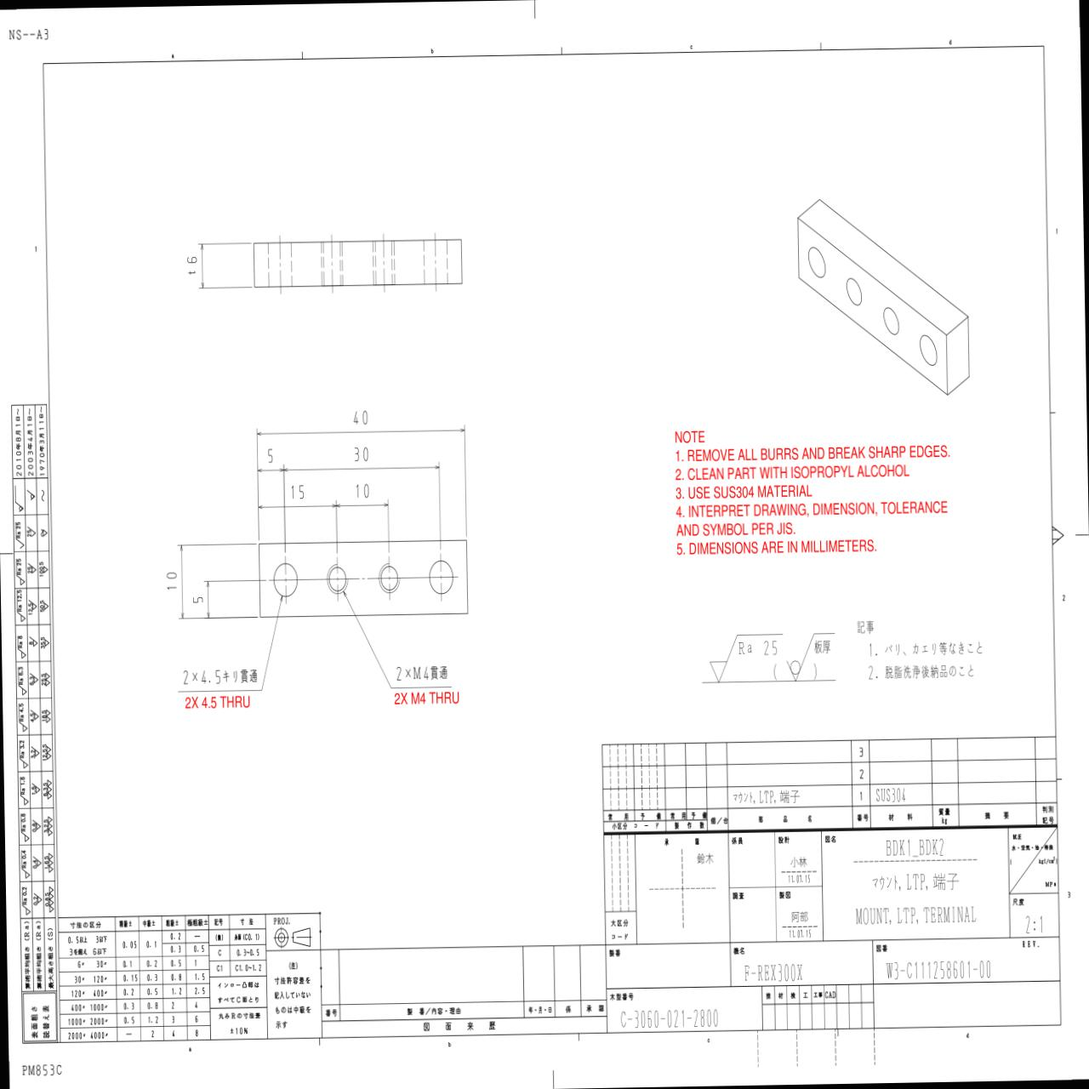basic_dimension: (354, 447, 368, 462), (353, 411, 368, 425), (166, 572, 177, 590), (291, 485, 304, 499), (356, 484, 369, 497), (268, 448, 273, 463), (193, 597, 203, 603)
dimension_metric_symbol: (411, 690, 427, 706)
dimension_metric_text: (419, 689, 426, 705)
dimension_thickness_symbol: (187, 256, 197, 275)
dimension_thickness_text: (187, 256, 197, 265)
surface_finish_symbol: (710, 634, 783, 683)
surface_finish_text: (737, 639, 777, 658)
